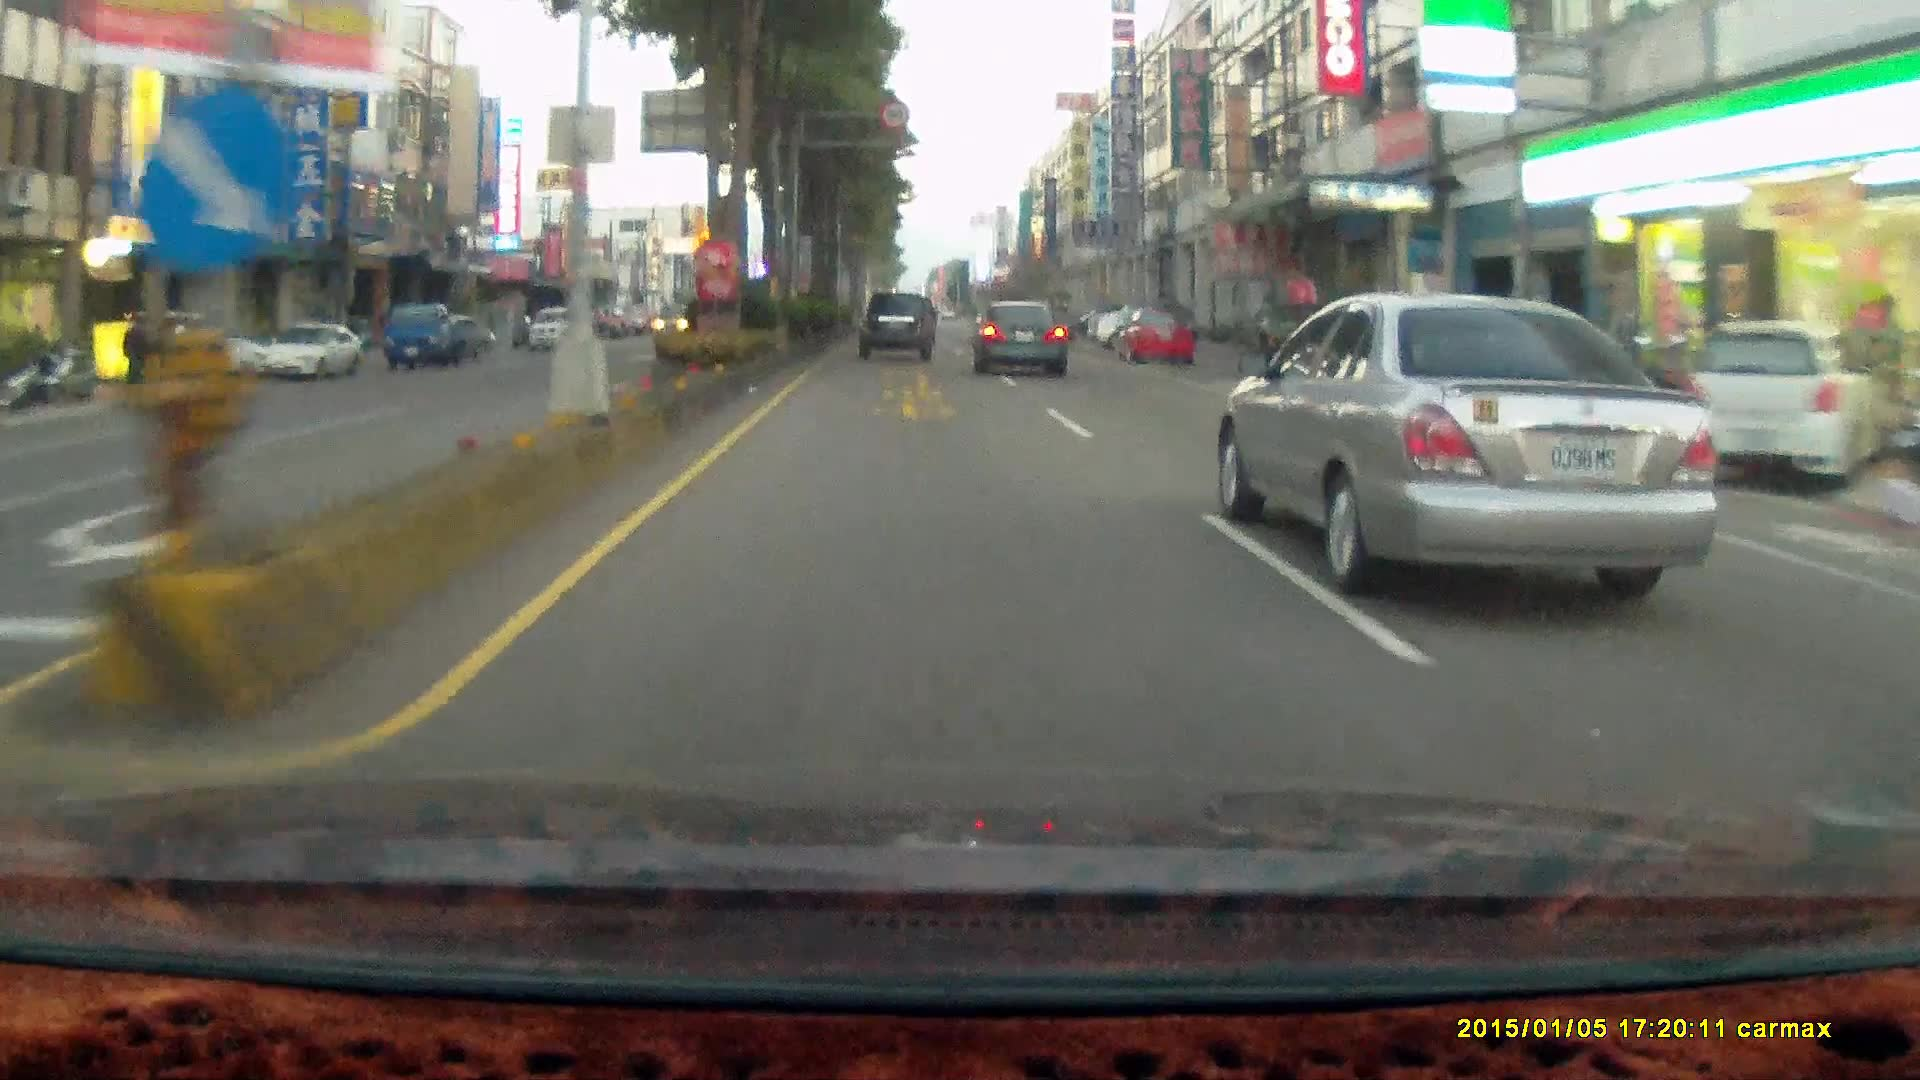pedestrian: (118, 308, 151, 399), (120, 316, 151, 405)
vehicle: (1227, 286, 1728, 581), (1683, 315, 1880, 490), (1681, 320, 1879, 482), (1434, 316, 1631, 447), (1277, 306, 1447, 389), (1256, 300, 1425, 383), (124, 307, 258, 376), (974, 300, 1071, 380), (970, 298, 1067, 374), (262, 321, 367, 386), (387, 304, 487, 370), (254, 321, 364, 379), (382, 302, 468, 370), (859, 295, 941, 365), (1114, 305, 1202, 368), (1114, 304, 1202, 367), (857, 289, 934, 359), (411, 313, 493, 358), (1087, 302, 1171, 344), (528, 302, 584, 350)
